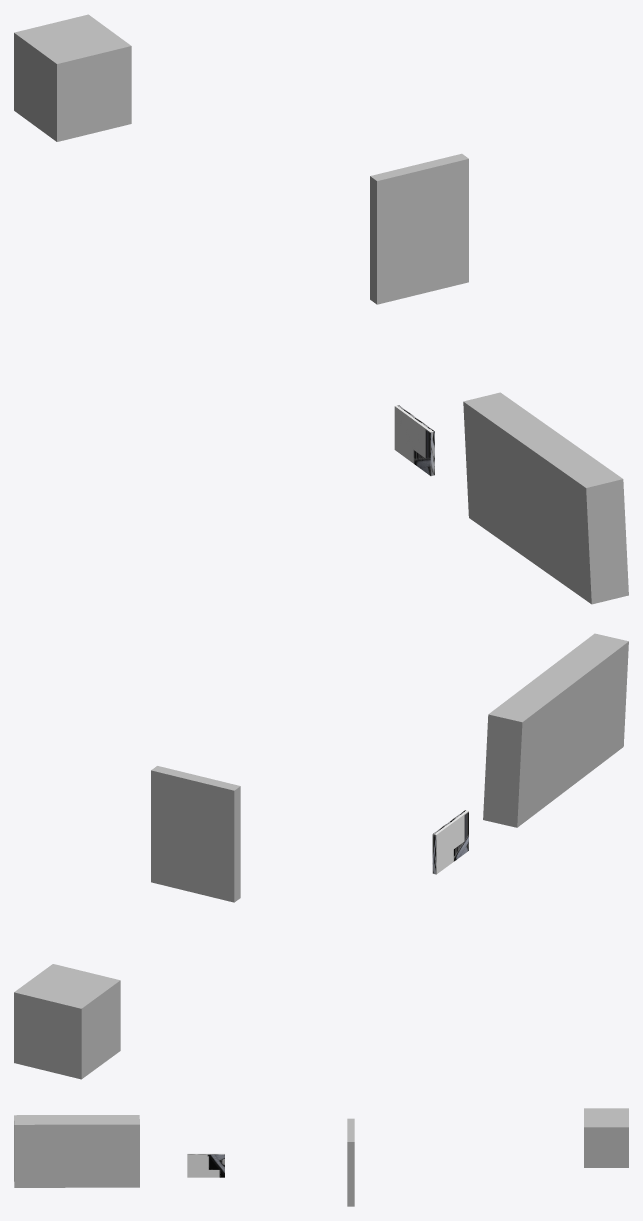
Rendered from Poneglyph.fbx.
The picture shows the model from 3 angles, top to bottom: view 1: azimuth 30°, elevation 25°; view 2: azimuth 150°, elevation 25°; view 3: azimuth 270°, elevation 25°; orthographic projection. The views are drawn at different scales.
Visible parts, largest first — view 1: Cube.003, Cube.001, Cube.004, Cube; view 2: Cube.003, Cube.001, Cube.004, Cube; view 3: Cube.003, Cube.004, Cube, Cube.001.
Part boxes in pixels (x1,y1,x2,y2): Cube.003: (463,392,628,604); Cube.001: (370,153,468,304); Cube.004: (14,14,131,141); Cube: (394,405,434,475); Cube.003: (483,633,628,827); Cube.001: (151,766,240,902); Cube.004: (14,964,120,1079); Cube: (432,810,468,874); Cube.003: (14,1115,139,1187); Cube.004: (584,1108,628,1167); Cube: (187,1153,224,1177); Cube.001: (347,1118,354,1206).
Size of the model in its own units: 4086 by 3165 by 20369.
